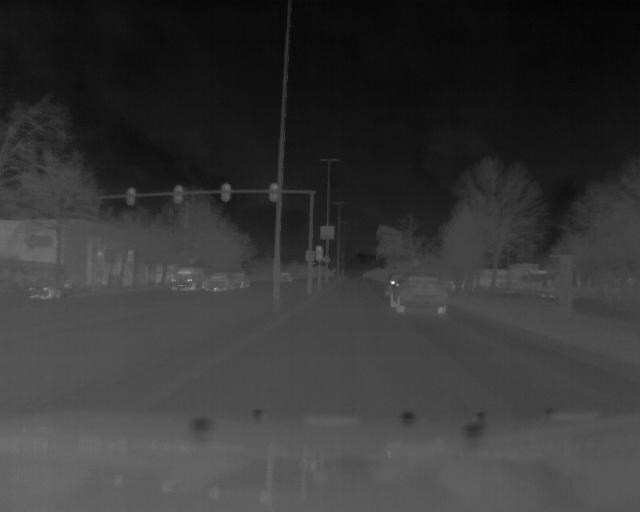car: (388, 269, 452, 316), (166, 264, 210, 291)
